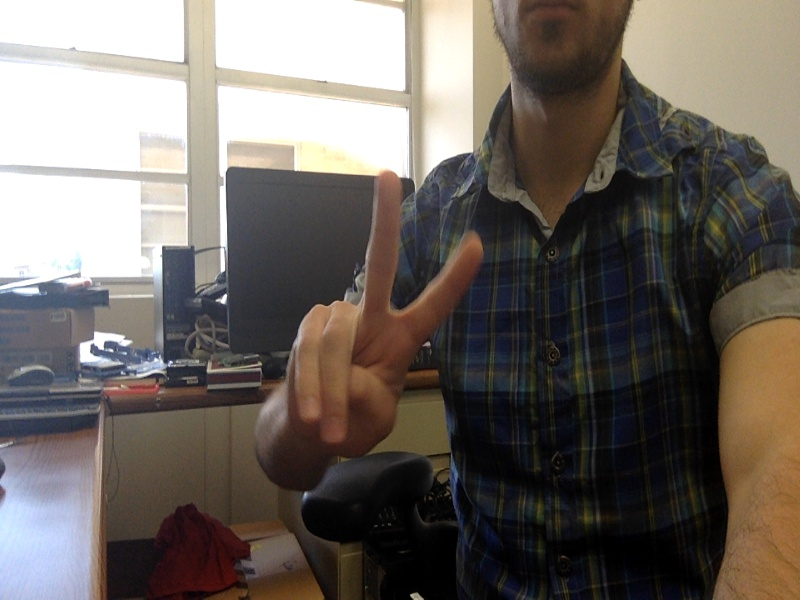2-hand: (290, 171, 482, 456)
